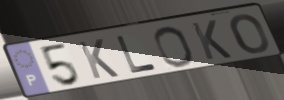5: (36, 41, 83, 88)
K: (76, 38, 122, 81), (189, 19, 235, 62)
L: (114, 34, 159, 75)
O: (152, 25, 196, 69), (229, 13, 271, 56)
